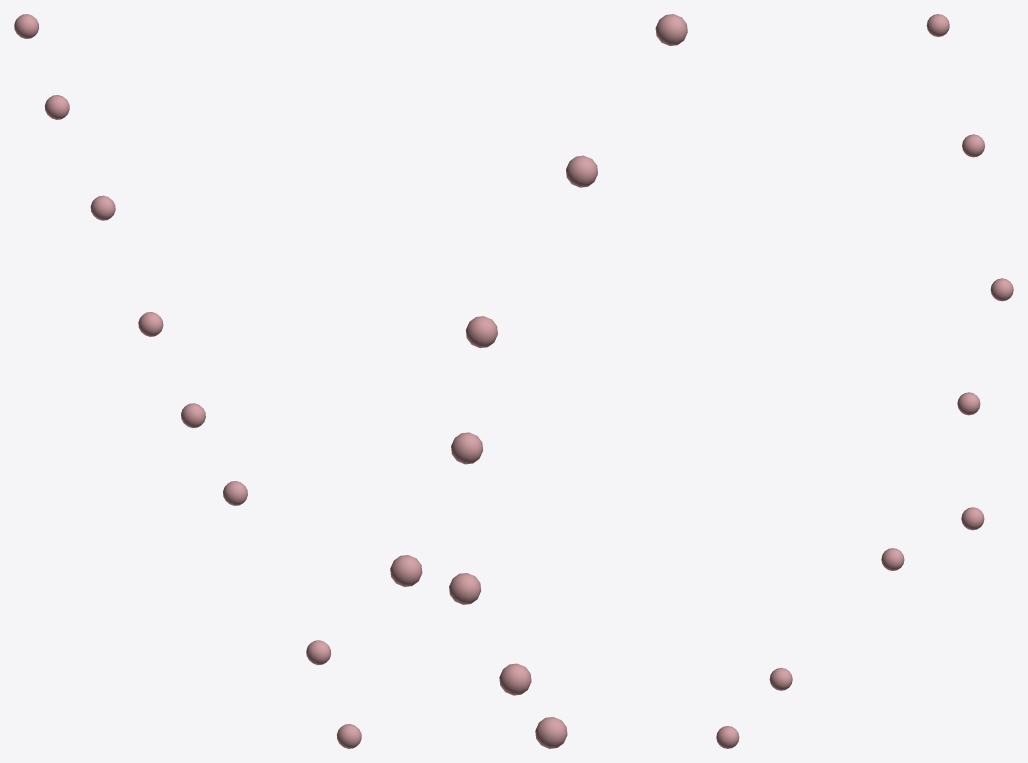
The picture shows the model from 3 angles, left to right: view 1: azimuth 30°, elevation 25°; view 2: azimuth 150°, elevation 25°; view 3: azimuth 270°, elevation 25°; orthographic projection. The views are drawn at different scales.
Visible parts, largest first — view 1: ZA_abc3730e46c6716c; view 2: ZA_abc3730e46c6716c; view 3: ZA_abc3730e46c6716c.
Part boxes in pixels (bbox=[...]): ZA_abc3730e46c6716c: bbox=[14, 14, 361, 748]; ZA_abc3730e46c6716c: bbox=[390, 14, 687, 748]; ZA_abc3730e46c6716c: bbox=[716, 14, 1013, 748].
Size of the model in its own units: 0.0272 by 0.0794 by 0.0335.
